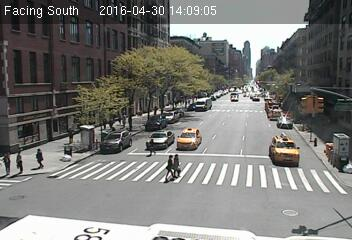neg: (236, 74, 250, 93), (244, 144, 256, 161), (162, 200, 173, 215), (74, 172, 85, 187), (211, 154, 222, 168), (123, 192, 134, 206), (205, 182, 215, 195), (100, 159, 110, 172), (227, 100, 236, 112), (280, 112, 288, 123), (267, 151, 272, 158), (213, 83, 217, 88)
pos: (158, 152, 179, 181), (28, 144, 49, 171), (166, 152, 185, 176), (9, 148, 27, 173), (142, 135, 156, 154), (63, 125, 77, 144), (149, 103, 158, 115)
